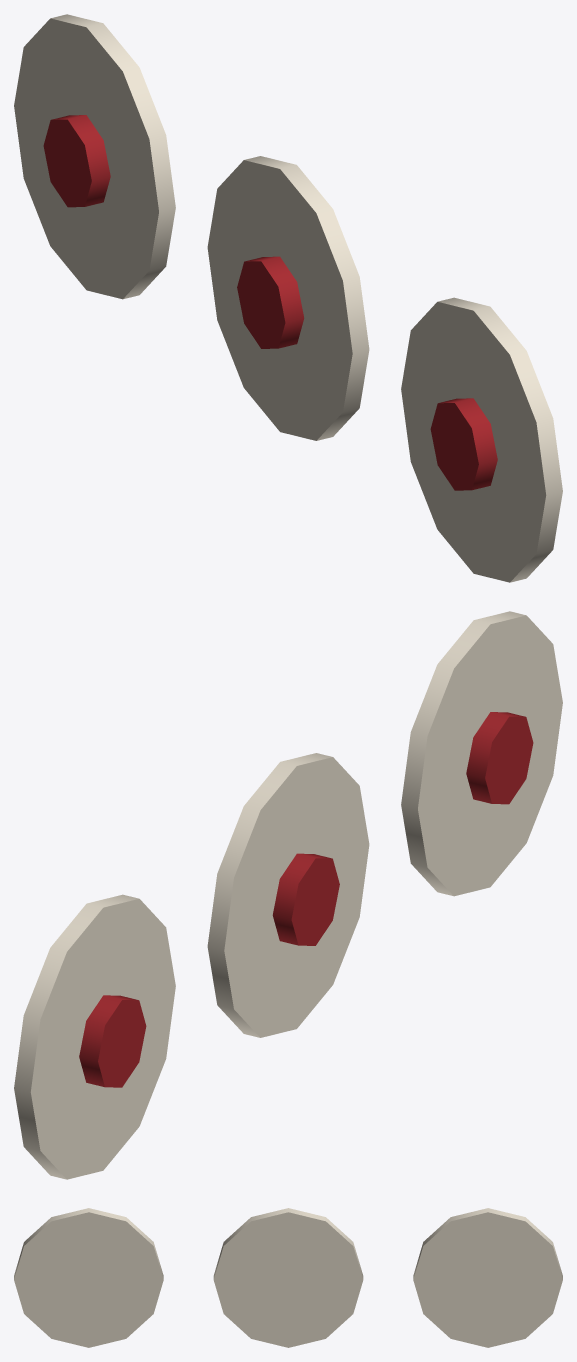
Rendered from booth-1-extra.glb.
The picture shows the model from 3 angles, top to bottom: view 1: azimuth 30°, elevation 25°; view 2: azimuth 150°, elevation 25°; view 3: azimuth 270°, elevation 25°; orthographic projection. The views are drawn at different scales.
Parts seen in each view (by area): view 1: 00_#e8e0d0_r110, 01_#a3262c_noshadow_r110; view 2: 00_#e8e0d0_r110, 01_#a3262c_noshadow_r110; view 3: 00_#e8e0d0_r110.
Part boxes in pixels (x1,y1,x2,y2): 00_#e8e0d0_r110: [14, 14, 562, 582]; 01_#a3262c_noshadow_r110: [43, 115, 497, 490]; 00_#e8e0d0_r110: [14, 611, 562, 1179]; 01_#a3262c_noshadow_r110: [79, 712, 533, 1087]; 00_#e8e0d0_r110: [14, 1208, 562, 1347].
Bounding box in the file's own units: 0.085 × 0.6 × 2.2.
